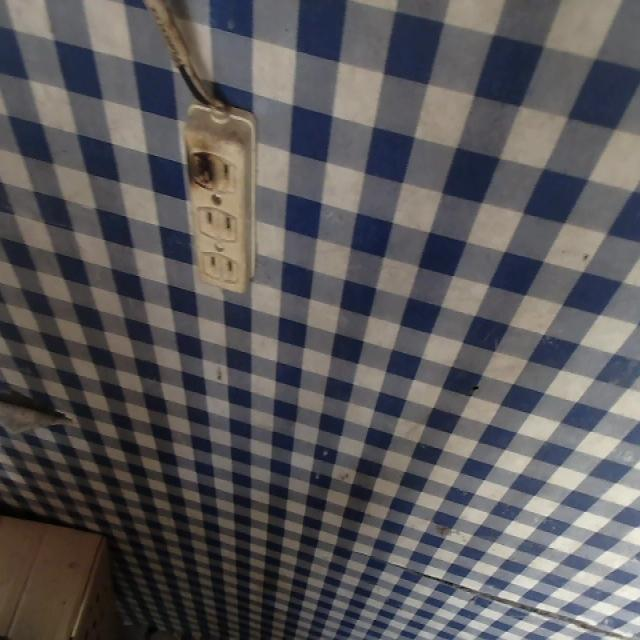-: (181, 138, 220, 202)
